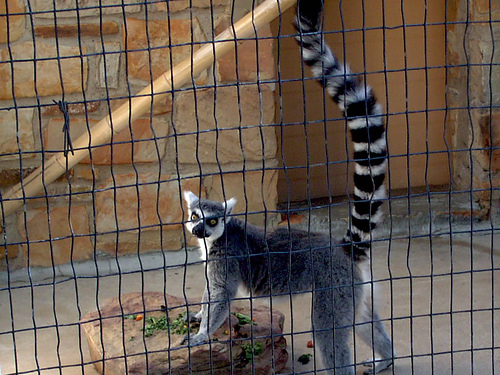cat: (178, 1, 395, 374)
